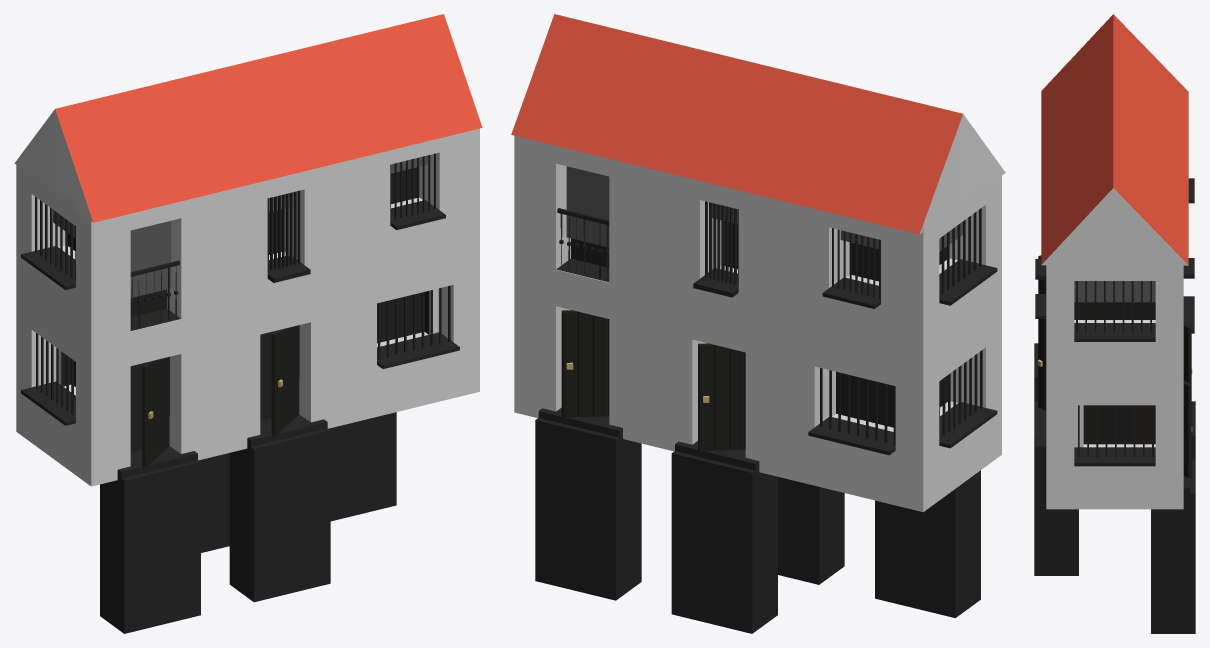
File: casa_procedural_relleno_6.fbx
3 renders of one model, left to right at view 1: azimuth 30°, elevation 25°; view 2: azimuth 150°, elevation 25°; view 3: azimuth 270°, elevation 25°, orthographic. The views are drawn at different scales.
Visible parts, largest first — view 1: casa procedural_relleno_6; view 2: casa procedural_relleno_6; view 3: casa procedural_relleno_6.
Boxes of the visible parts, left/top/right/bottom form: casa procedural_relleno_6: left=14, top=14, right=482, bottom=633; casa procedural_relleno_6: left=511, top=14, right=1005, bottom=633; casa procedural_relleno_6: left=1034, top=14, right=1195, bottom=633.
Size of the model in its own units: 316 by 369 by 118.
